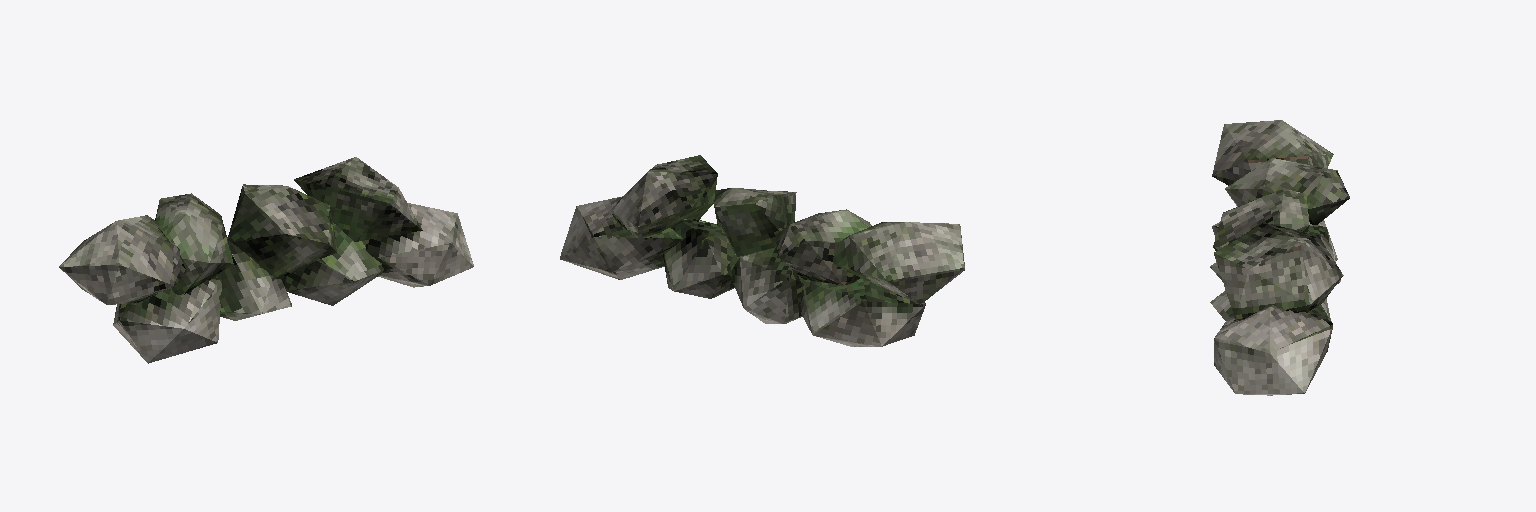
The picture shows the model from 3 angles: view 1: azimuth 30°, elevation 25°; view 2: azimuth 150°, elevation 25°; view 3: azimuth 270°, elevation 25°; orthographic projection.
Visible parts, largest first — view 1: stone_low; view 2: stone_low; view 3: stone_low.
Boxes of the visible parts, <box> form: stone_low: <box>59,157,473,363</box>; stone_low: <box>560,155,964,346</box>; stone_low: <box>1210,120,1349,395</box>.
Bounding box in the file's own units: 6.86 × 2.28 × 2.12.
Materials: 1 (1 with a texture image).